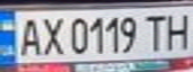0: (66, 13, 87, 55)
1: (103, 12, 124, 54), (87, 14, 106, 54)
9: (118, 12, 142, 54)
A: (12, 15, 45, 57)
H: (160, 9, 193, 51)
T: (139, 11, 169, 52)
X: (36, 14, 66, 56)
